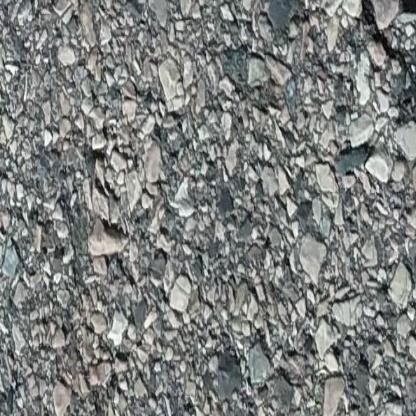Cracks: (356, 0, 416, 128), (400, 0, 416, 26)
